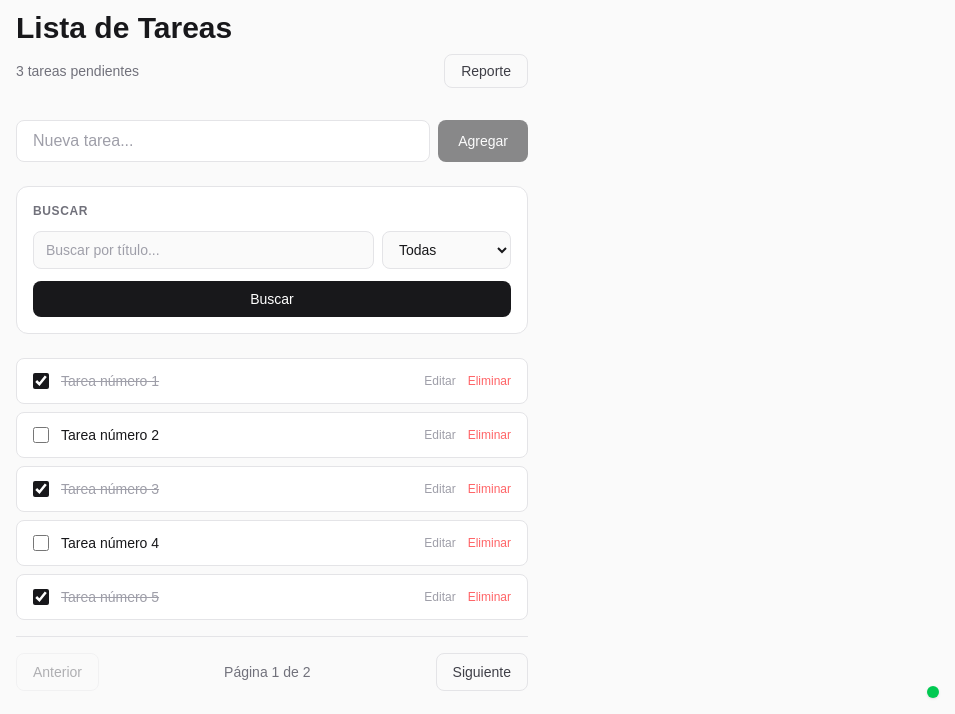
Test: ListaTareas — paginación › regresa a la primera página al hacer clic en Anterior
expect the text "Tarea número 1" is shown: met, box [61,373,159,389]
Click the button "Siguiente" at (482, 672), box [436,653,528,691]
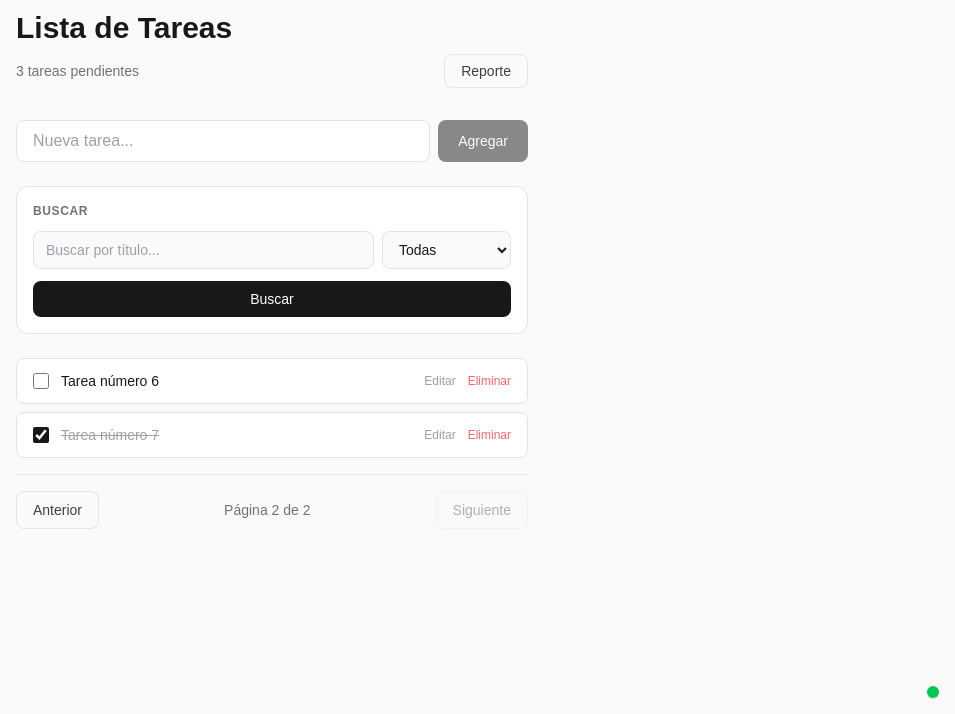
Click the button "Anterior" at (58, 510), box [16,491,99,529]
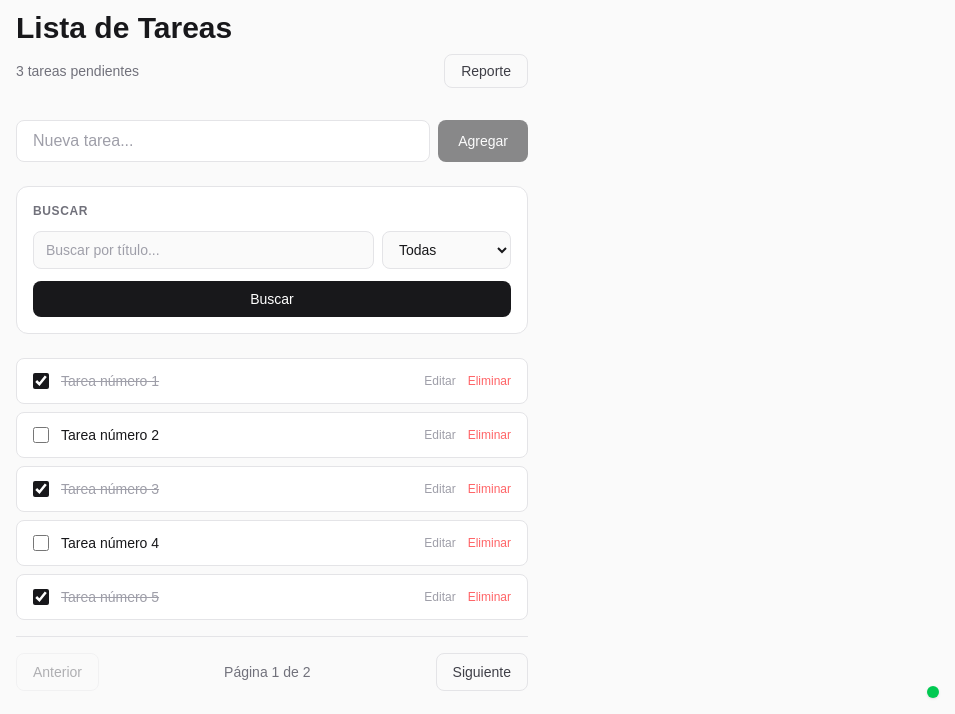
expect the text "Página 1 de 2" is shown: met, box [224,662,310,682]
expect the text "Tarea número 1" is shown: met, box [61,373,159,389]
